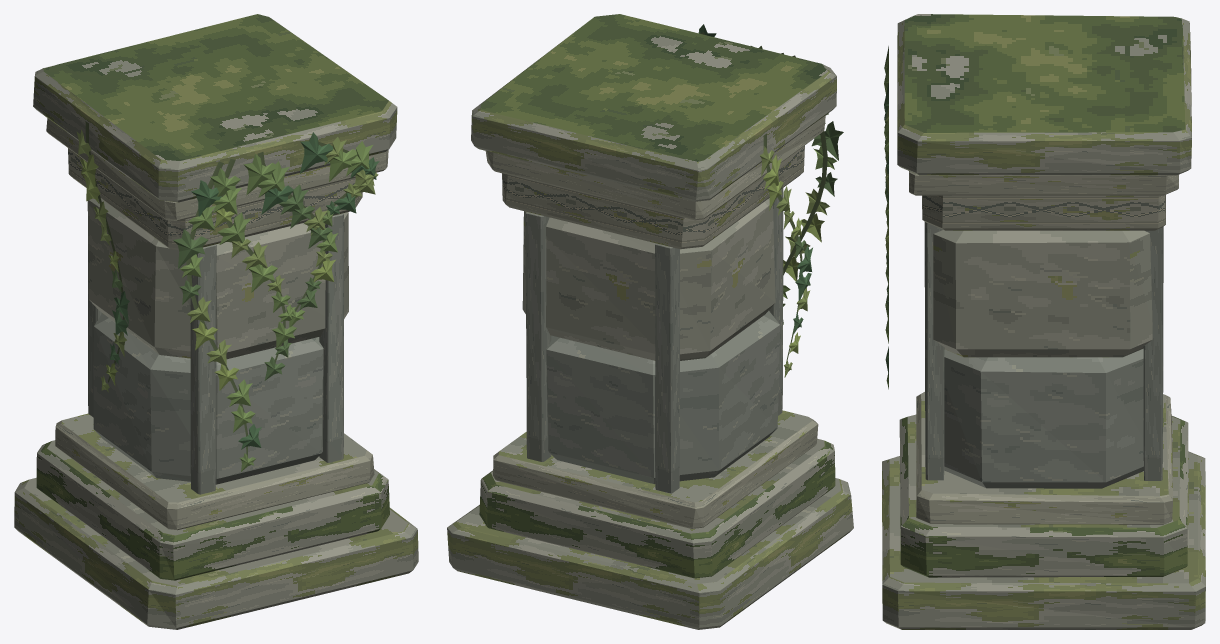
File: ruin_pier.glb
3 renders of one model, left to right at view 1: azimuth 30°, elevation 25°; view 2: azimuth 150°, elevation 25°; view 3: azimuth 270°, elevation 25°, orthographic. The views are drawn at different scales.
Visible parts, largest first — view 1: ruin_pier; view 2: ruin_pier; view 3: ruin_pier.
Part boxes in pixels (x1,y1,x2,y2): ruin_pier: [14, 14, 418, 629]; ruin_pier: [447, 14, 853, 629]; ruin_pier: [882, 14, 1205, 629].
Size of the model in its own units: 1.39 by 2.28 by 1.35.
Materials: 2 (1 with a texture image).
